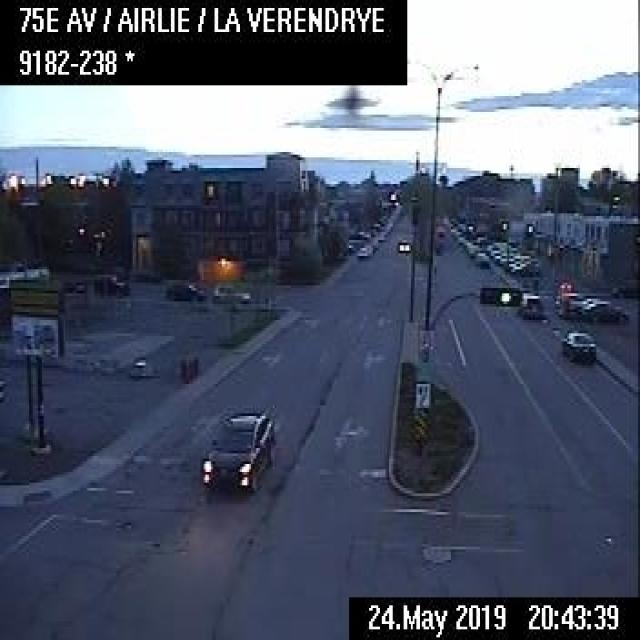vehicle: (199, 405, 276, 495), (558, 326, 596, 366), (579, 297, 626, 322), (163, 278, 202, 302), (210, 283, 250, 302), (95, 273, 126, 297), (518, 291, 544, 317), (353, 240, 371, 256), (475, 248, 489, 264), (396, 238, 409, 252), (467, 244, 479, 254)
